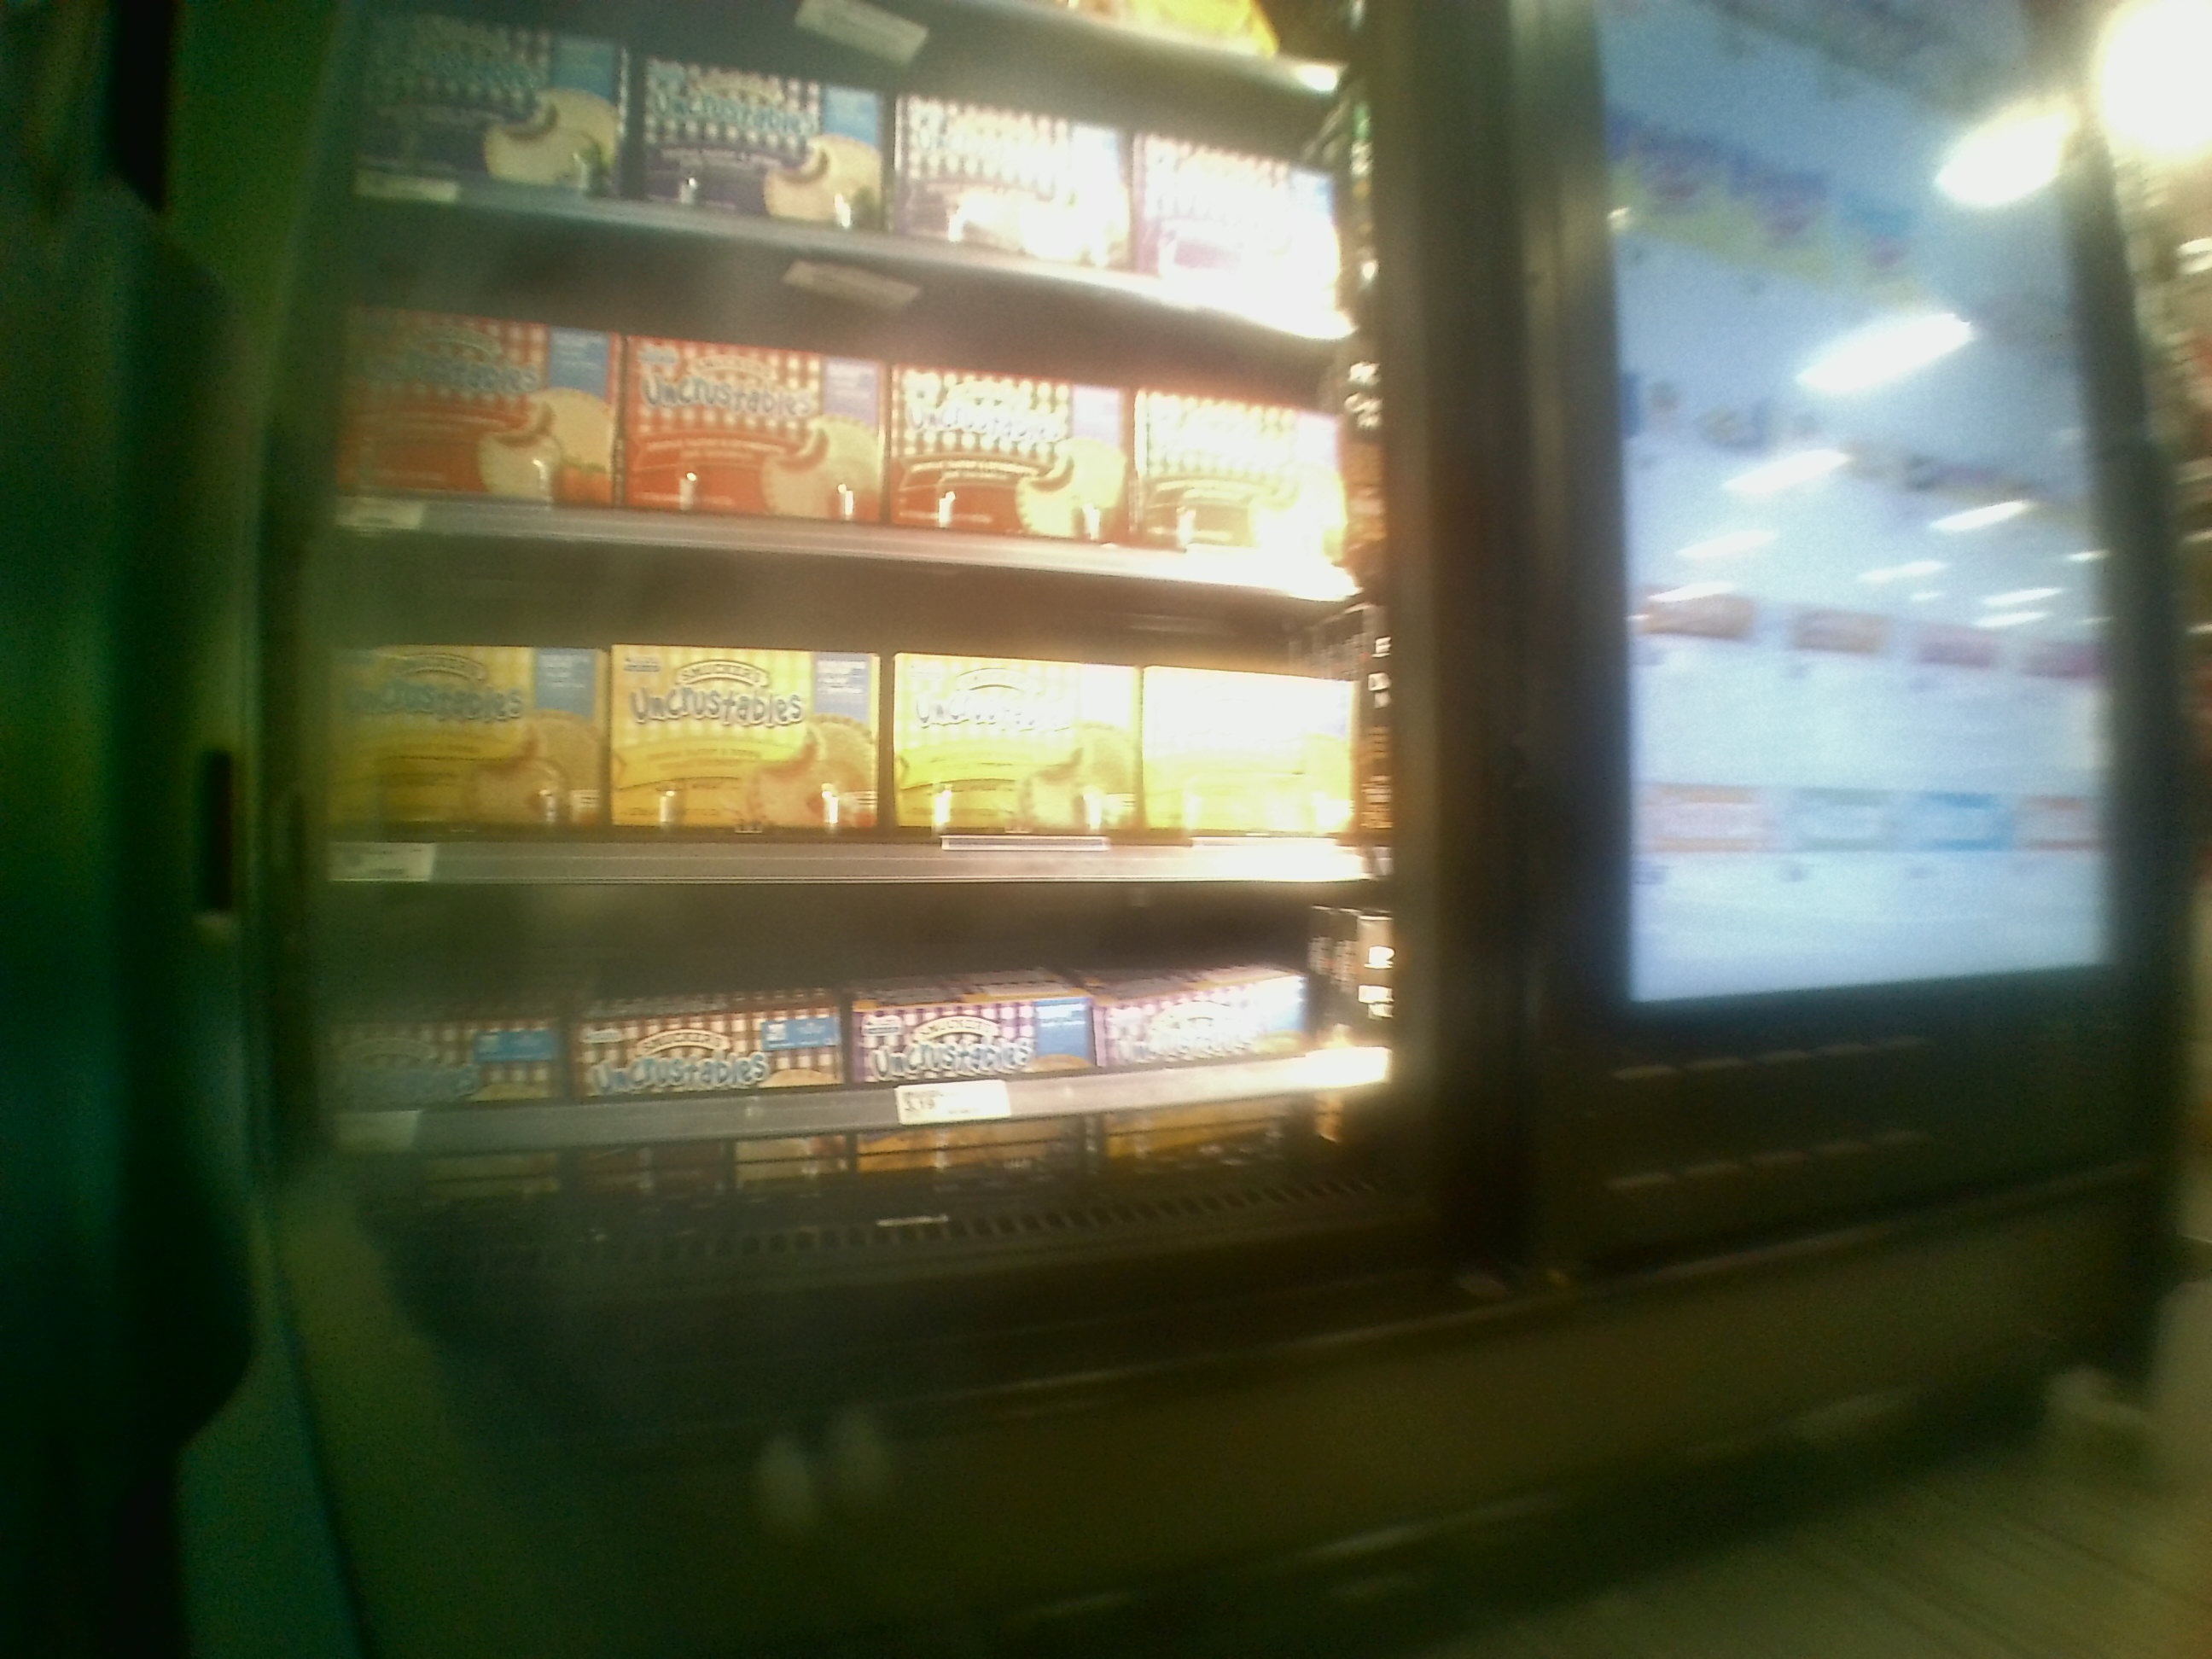shelf: (301, 864, 1449, 1239), (329, 525, 1369, 878), (324, 239, 1369, 566)
